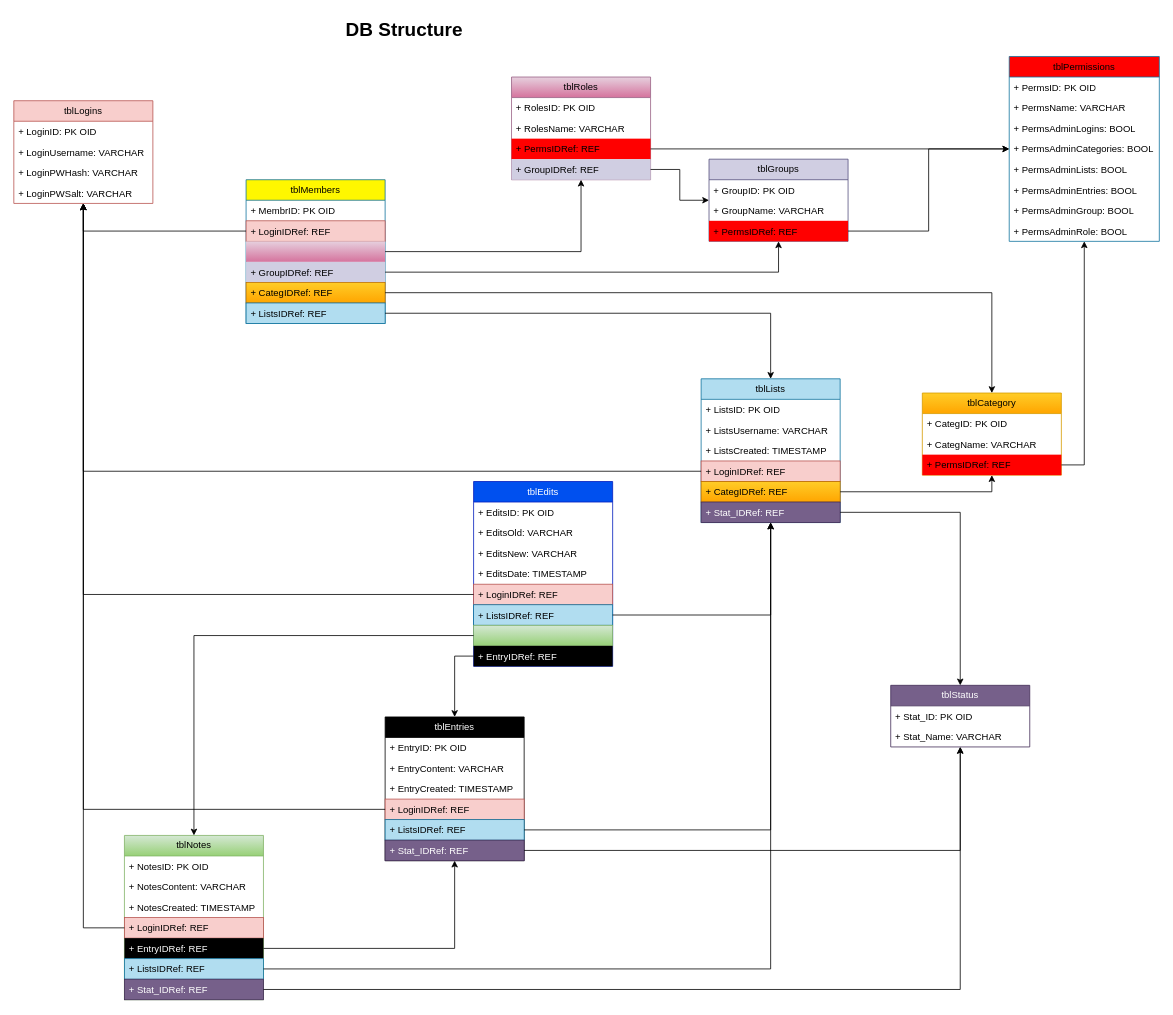
This 1173x1015 diagram has some shape labels left out. The shapes that lost their labels are listed below. From the top down, each one's centre as x and y in pixels, then its label:
At point (315, 251): "+ RolesIDRef: REF".
At point (543, 635): "+ NotesIDRef: REF".
